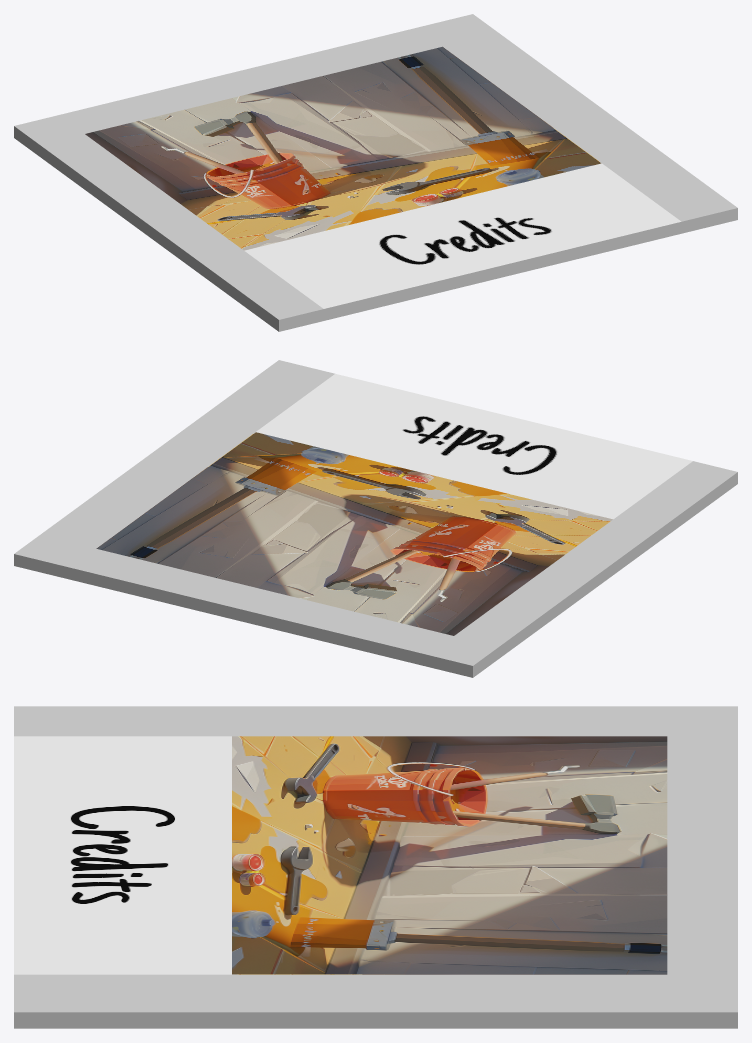
Rendered from Polaroid_Credits.fbx.
3 views of the same model, one above another, from view 1: azimuth 30°, elevation 25°; view 2: azimuth 150°, elevation 25°; view 3: azimuth 270°, elevation 25° (orthographic). The views are drawn at different scales.
Parts seen in each view (by area): view 1: Plane.001; view 2: Plane.001; view 3: Plane.001.
Part boxes in pixels (<box>): Plane.001: <box>14,14,737,331</box>; Plane.001: <box>14,360,737,677</box>; Plane.001: <box>14,706,737,1028</box>.
Size of the model in its own units: 400 by 10 by 400.
